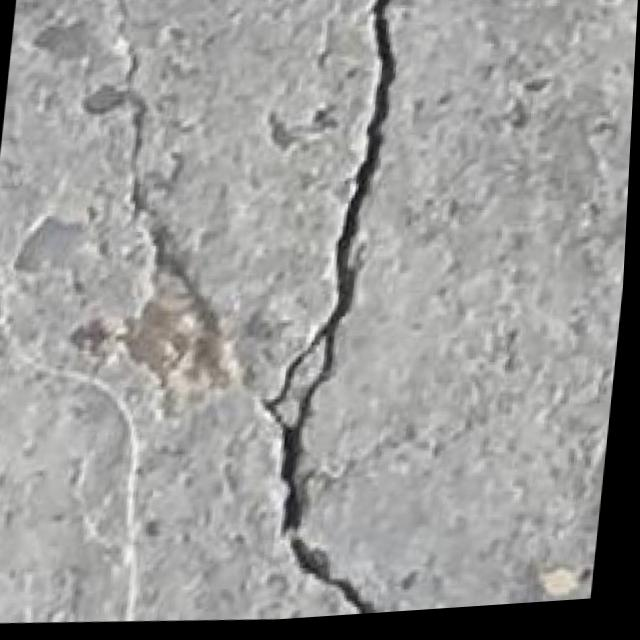Crack: (236, 0, 452, 626), (79, 25, 170, 276)
